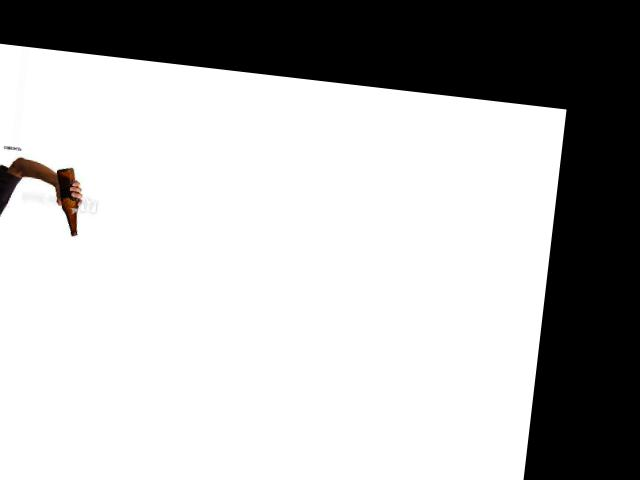beer: (49, 165, 85, 236)
